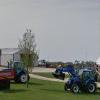Tractor: (60, 66, 100, 97)
